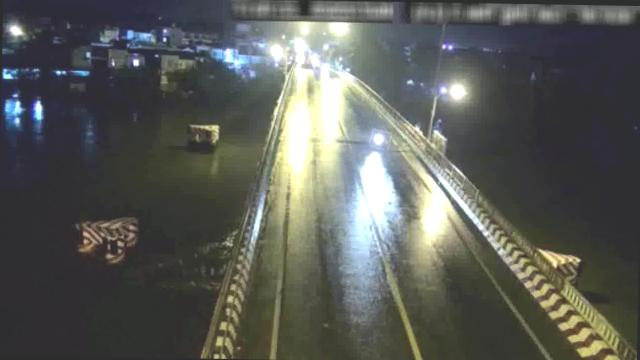Bike: (370, 130, 391, 148)
